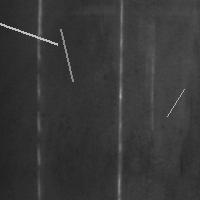scratches: (113, 1, 127, 198), (33, 1, 45, 198), (0, 13, 62, 49), (55, 24, 77, 86), (162, 84, 189, 121)
